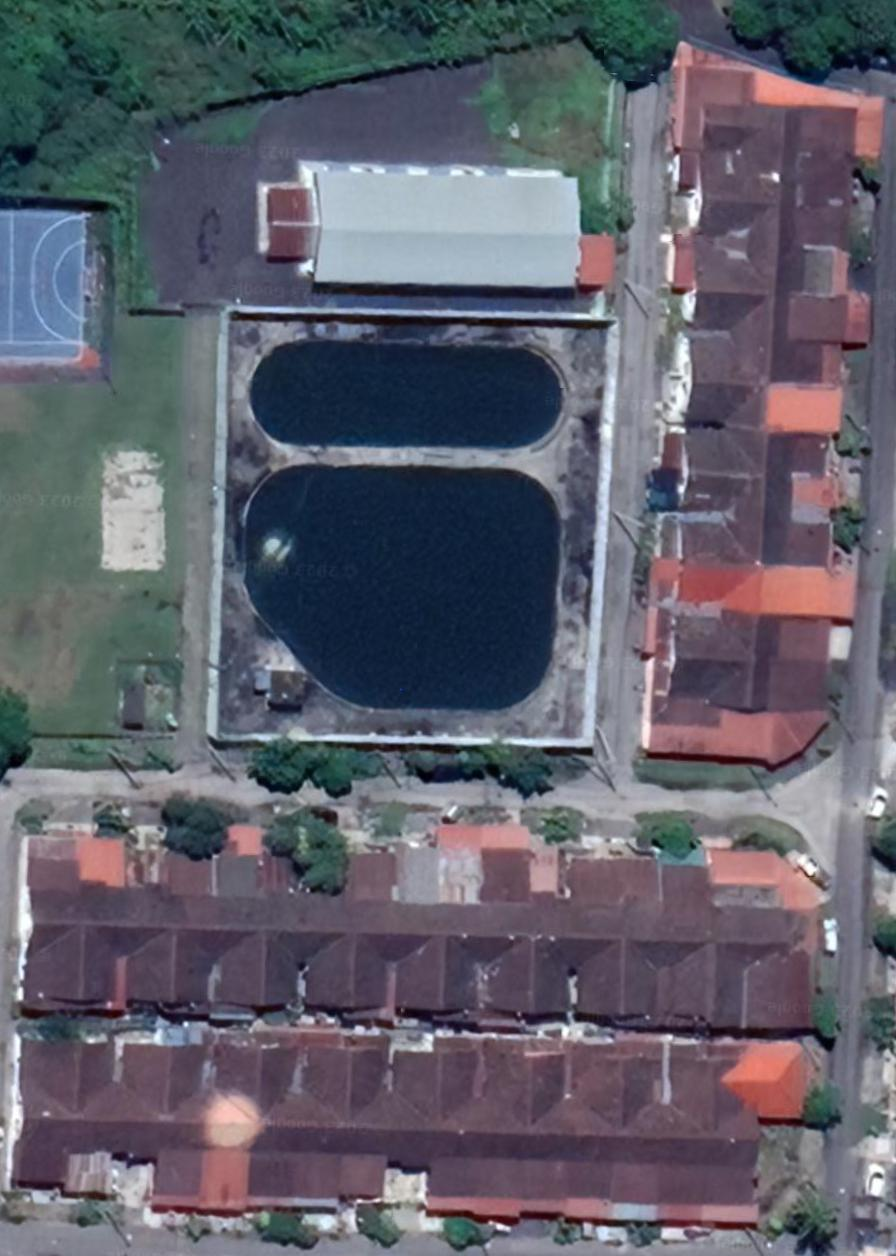building: (664, 28, 893, 160), (704, 841, 832, 1038), (706, 1033, 816, 1233), (13, 828, 86, 1021), (637, 703, 839, 770), (5, 1028, 83, 1200), (642, 562, 861, 622), (659, 232, 855, 298), (636, 608, 858, 666), (199, 1027, 265, 1216), (484, 815, 540, 1030), (434, 817, 491, 1028), (607, 847, 671, 1032), (632, 656, 842, 712), (655, 507, 838, 570), (567, 845, 628, 1033), (248, 1021, 307, 1215), (671, 147, 863, 206), (219, 815, 272, 1025), (161, 845, 223, 1024), (610, 1034, 665, 1232), (150, 1034, 210, 1215), (81, 828, 136, 1022), (674, 292, 875, 345), (426, 1033, 483, 1219), (516, 1032, 570, 1227), (395, 835, 449, 1025), (471, 1030, 523, 1223), (298, 1023, 350, 1214), (567, 1032, 617, 1229), (661, 859, 717, 1034), (676, 332, 852, 387), (671, 426, 837, 484), (341, 1028, 395, 1206), (347, 846, 401, 1021), (660, 1033, 707, 1233), (674, 381, 848, 435), (684, 197, 858, 249), (535, 841, 579, 1034), (386, 1041, 440, 1183), (266, 850, 313, 1013), (673, 474, 841, 518), (115, 1034, 171, 1165), (306, 887, 358, 1020), (135, 880, 183, 1023), (84, 1032, 116, 1164)
